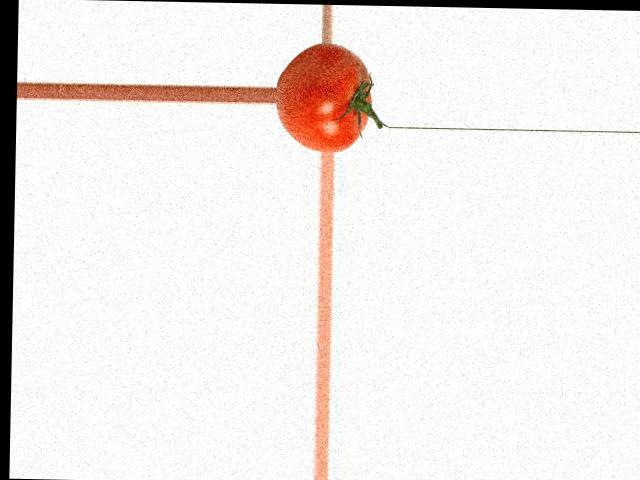tomato: (276, 41, 373, 153)
